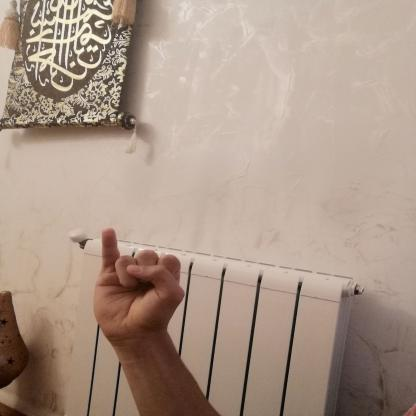MEEM: (79, 217, 201, 348)
